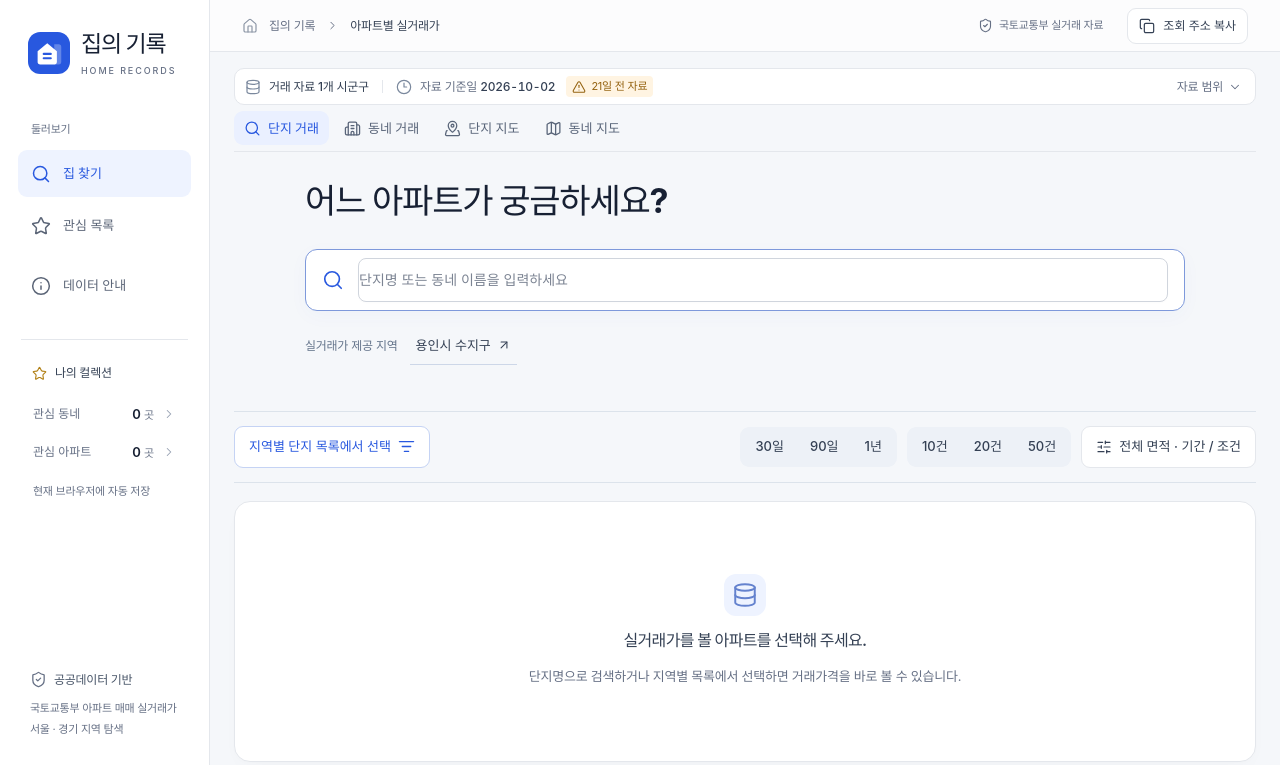
React transaction explorer › starts with empty personal favorites and makes no district request
Click the button "전체 면적 · 기간 / 조건" at point(1169, 447), box top-left (1081, 426), bottom-right (1256, 468)
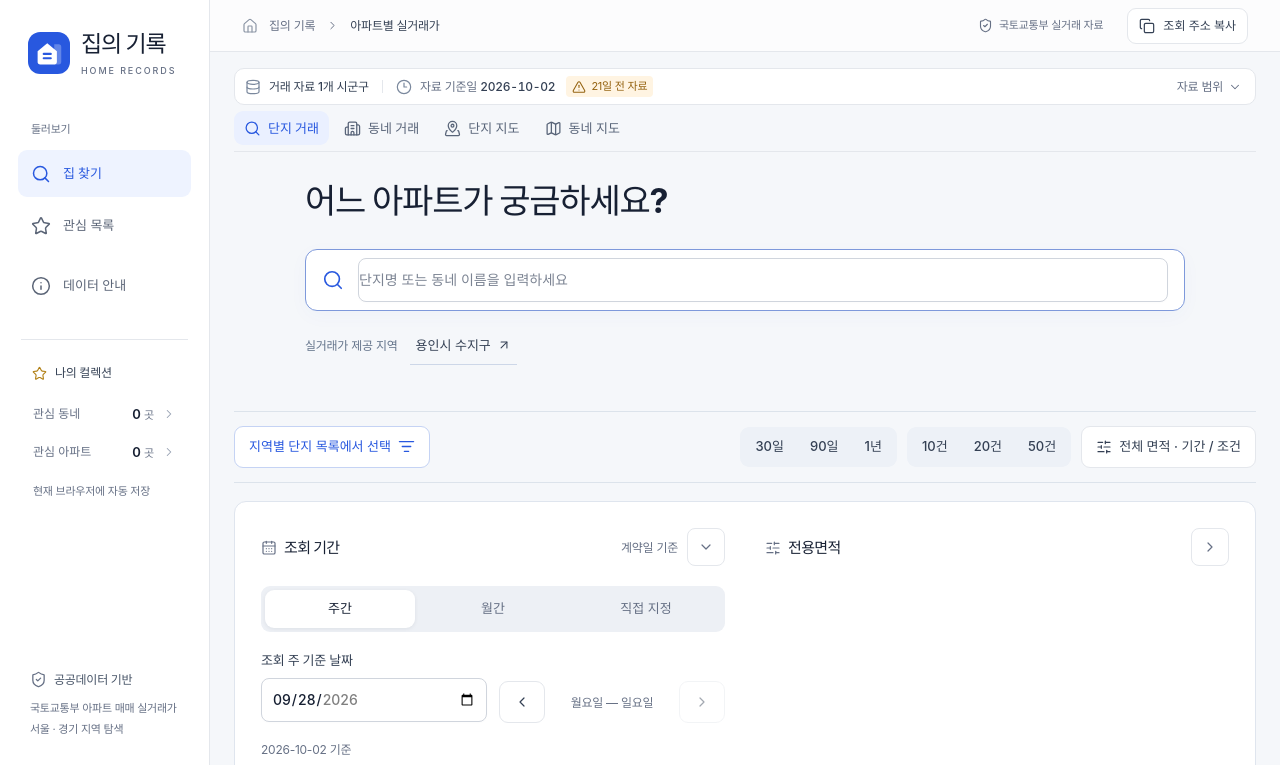
Click the button "지역별 단지 목록에서 선택" at point(332, 447), box top-left (234, 426), bottom-right (430, 468)
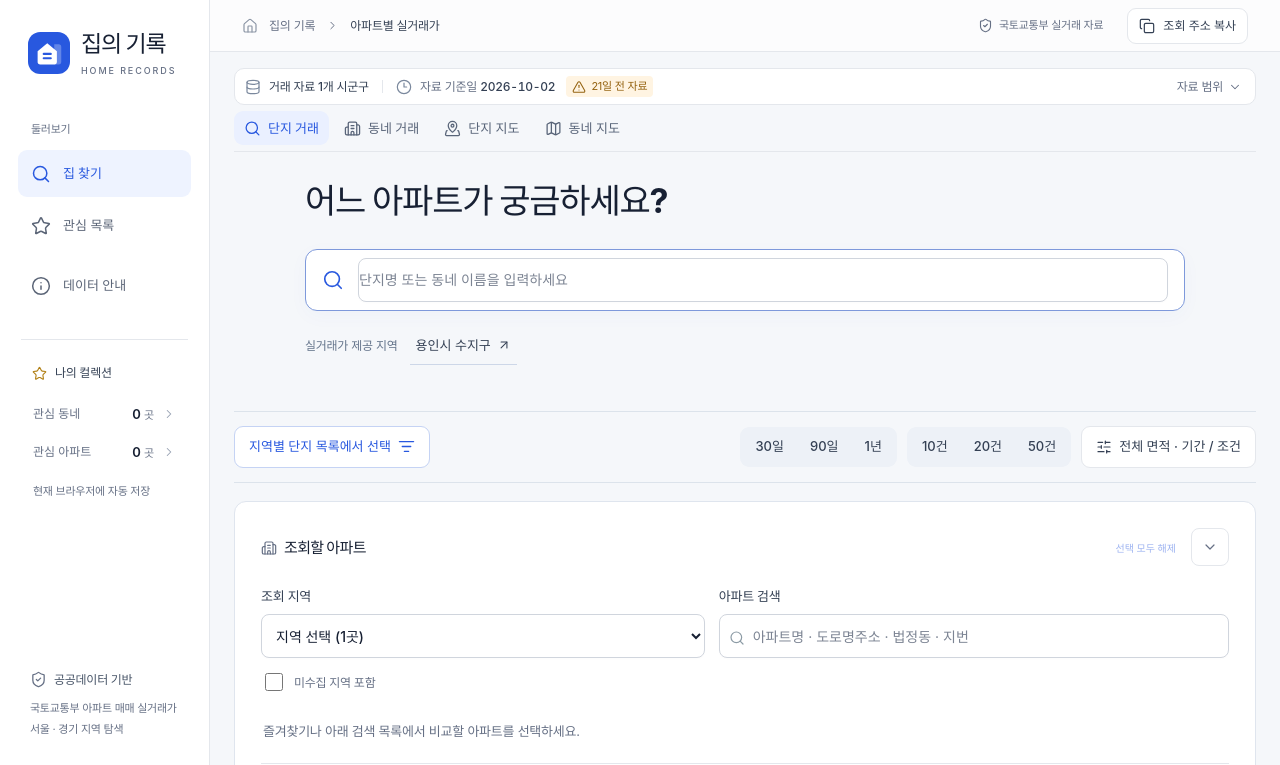
Expected: the search field labelled "어느 아파트가 궁금하세요?" is shown, top-left (358, 258), bottom-right (1168, 302)
Expected: the dropdown labelled "조회 지역" shows "지역 선택 (1곳)", top-left (261, 614), bottom-right (705, 658)
